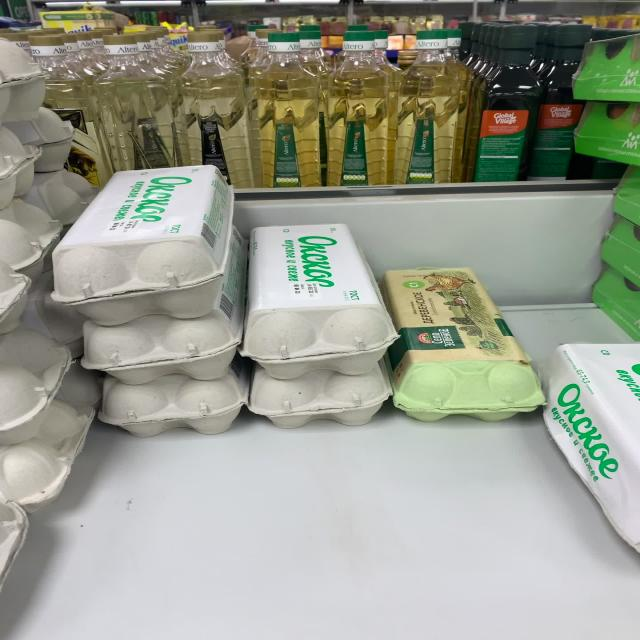egg box: (53, 160, 239, 316), (376, 262, 548, 423), (242, 216, 399, 378), (85, 38, 180, 178), (166, 31, 250, 182), (251, 36, 327, 188), (323, 29, 392, 186), (397, 29, 451, 184), (479, 25, 529, 186), (538, 31, 582, 177)
